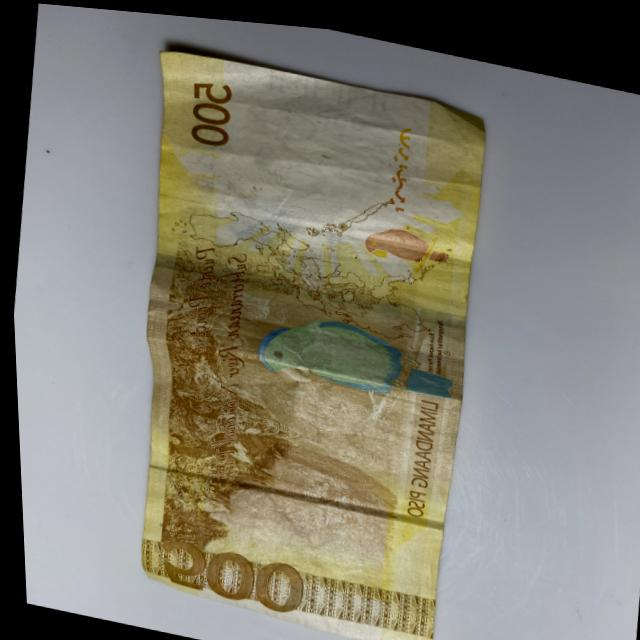500_big_parrot: (246, 297, 460, 403)
500_parrot_watermark: (356, 212, 450, 265)
value_watermark: (309, 98, 367, 127)
